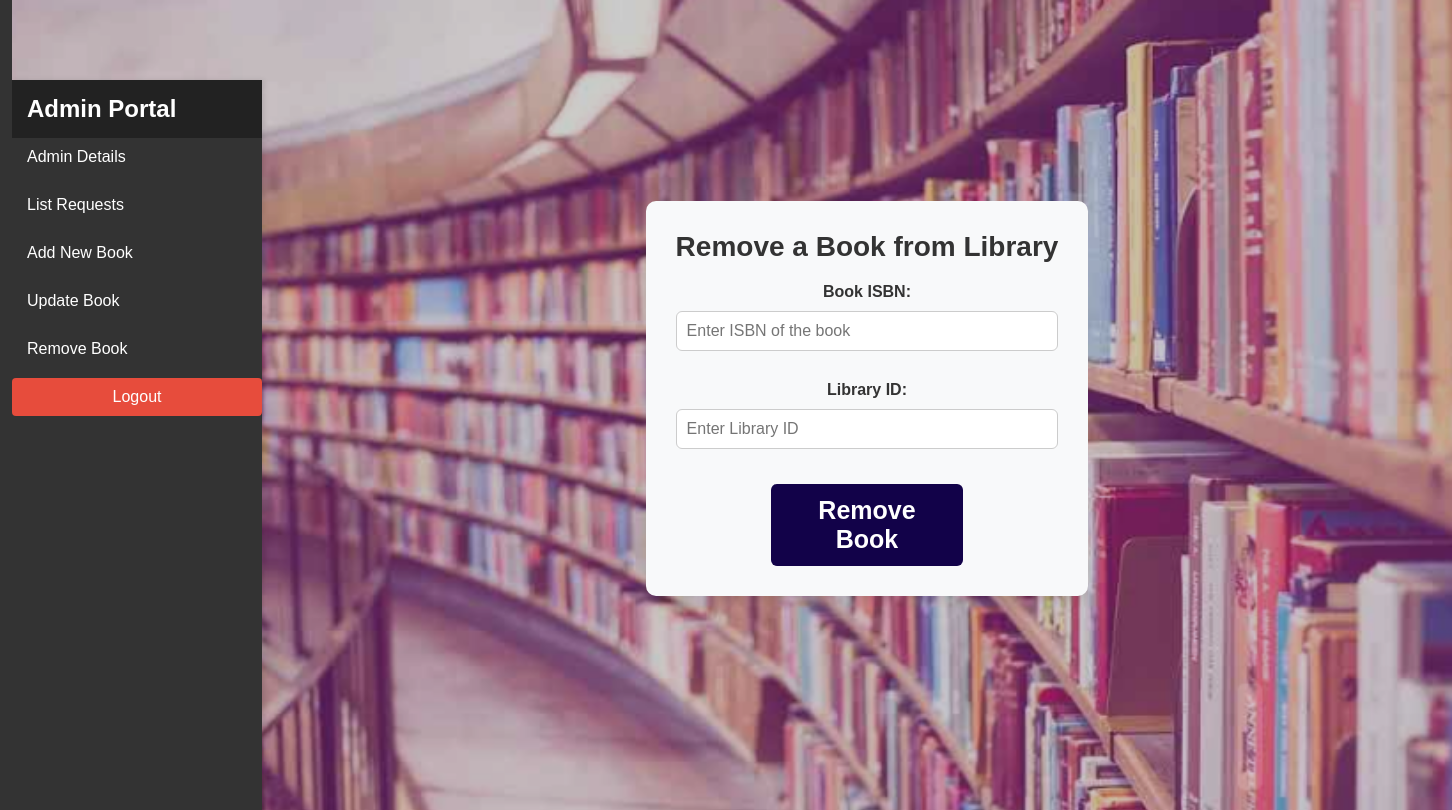
Test: submits form and displays success message on valid API response
The width and height of the screenshot is (1452, 810).
Note: Fill input fields
Type "12345" into the field labelled "Book ISBN:" at [867, 331], box left=676, top=311, right=1058, bottom=351
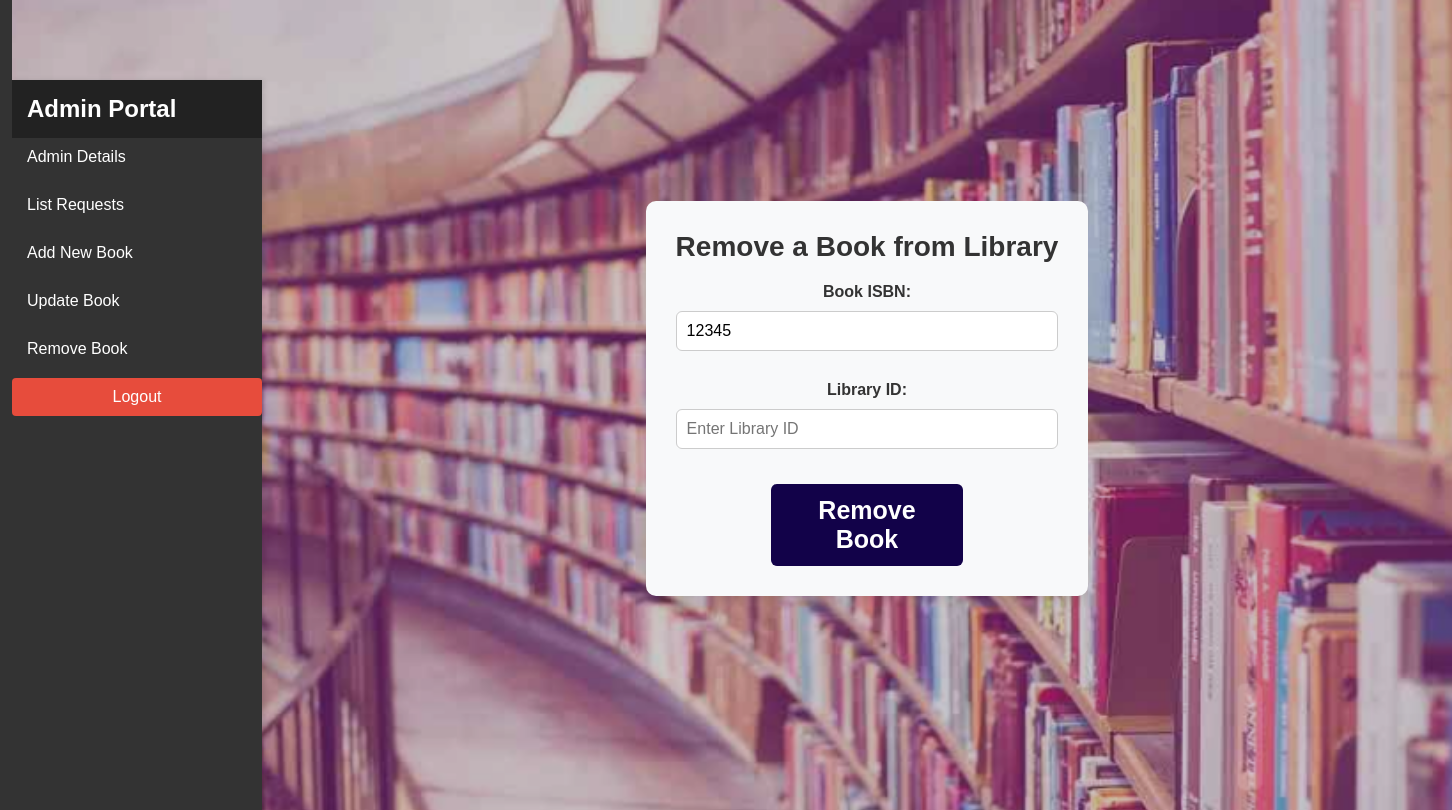
Type "1" into the number field labelled "Library ID:" at [867, 429], box left=676, top=409, right=1058, bottom=449
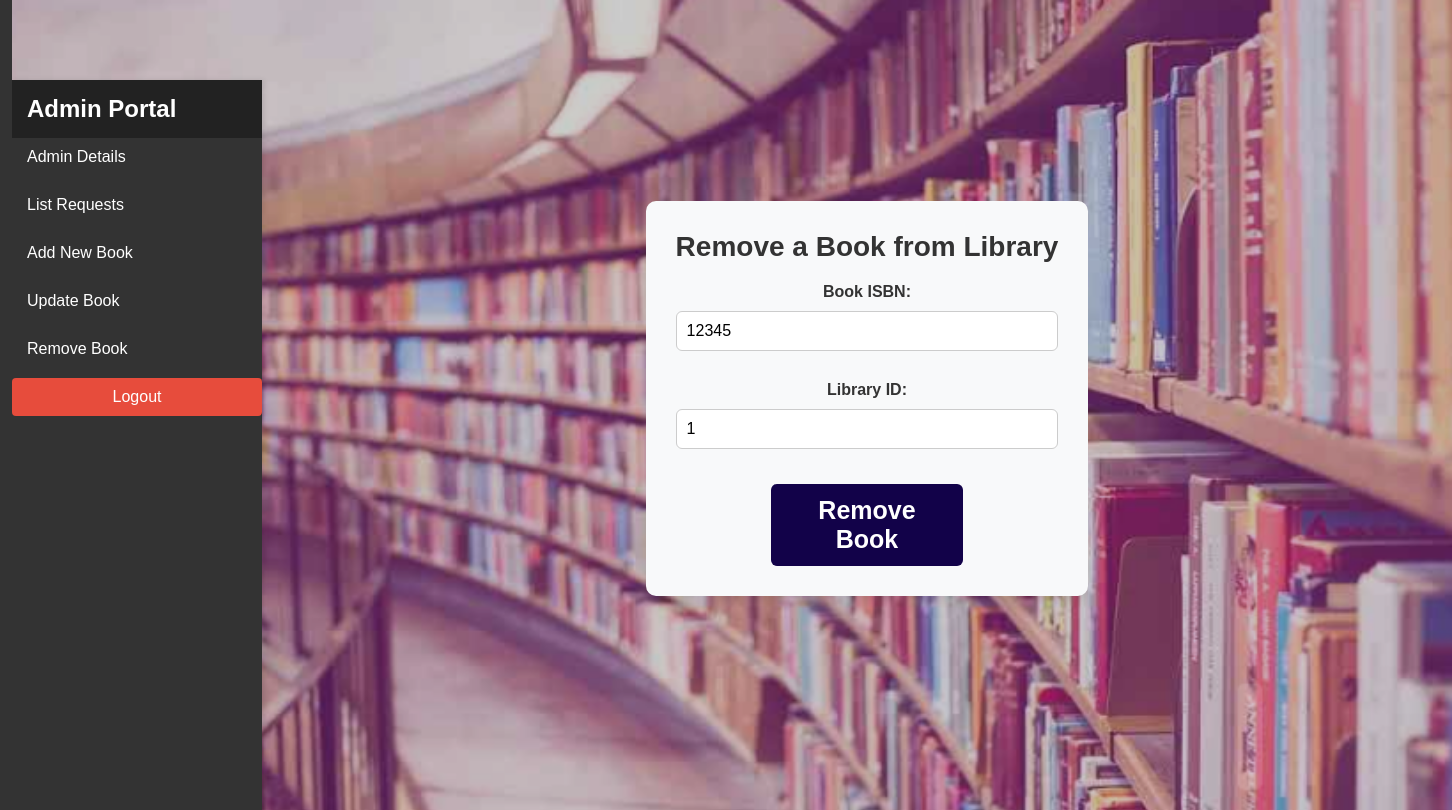
Note: Click remove button
Click the button "Remove Book" at [867, 525], box left=771, top=484, right=963, bottom=566
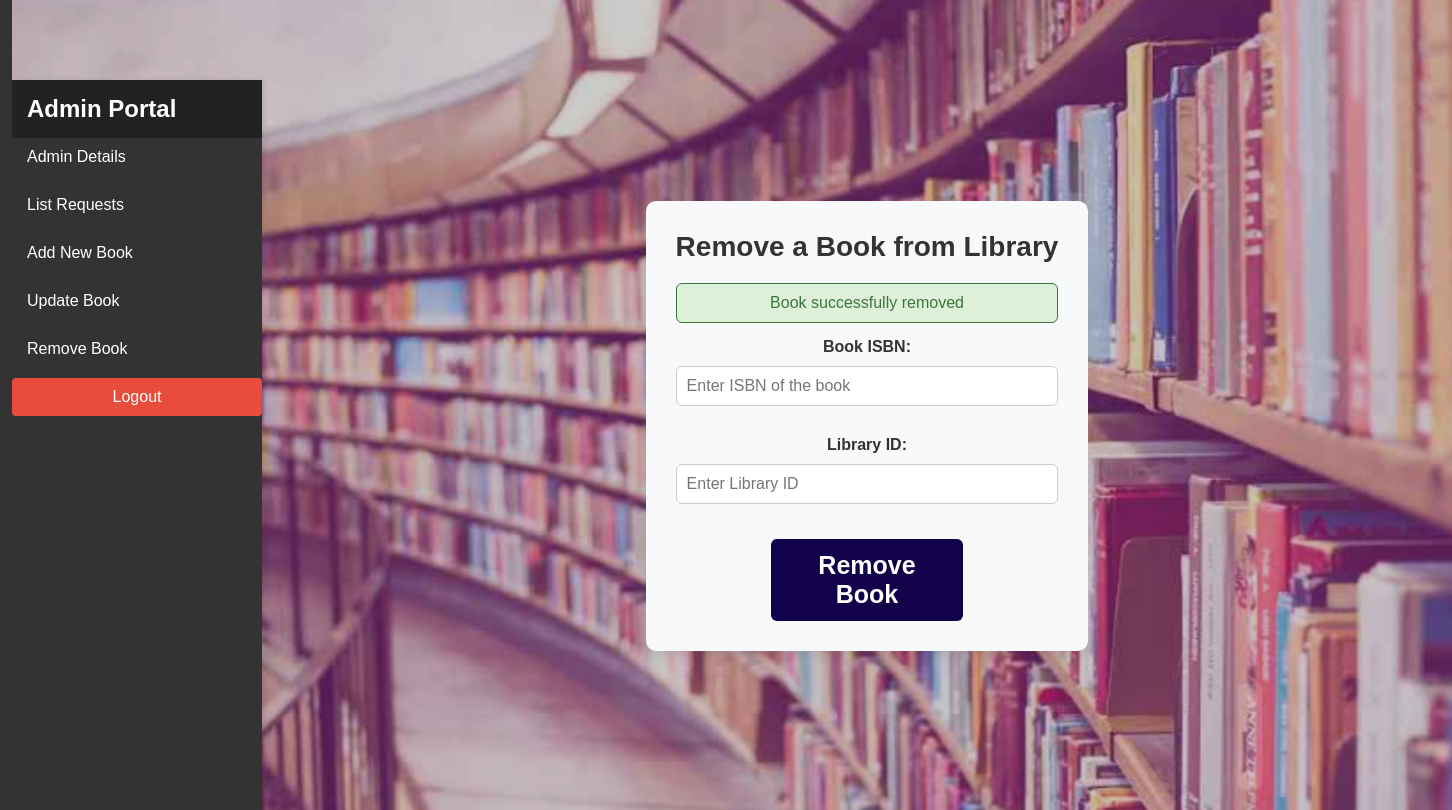
Check: the text "Book successfully removed" is shown, box left=676, top=283, right=1058, bottom=323
Check: the field labelled "Book ISBN:" is empty, box left=676, top=366, right=1058, bottom=406
Check: the number field labelled "Library ID:" is empty, box left=676, top=464, right=1058, bottom=504
